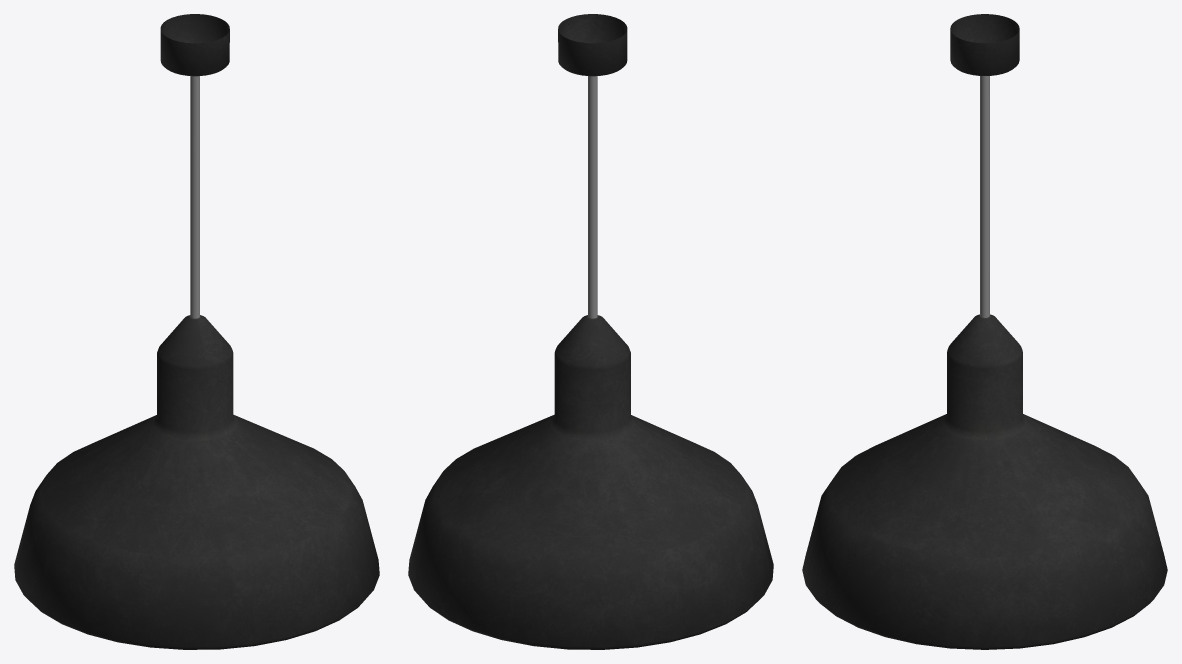
Rendered from hanging_lamp.glb.
The picture shows the model from 3 angles, left to right: view 1: azimuth 30°, elevation 25°; view 2: azimuth 150°, elevation 25°; view 3: azimuth 270°, elevation 25°; orthographic projection.
Parts seen in each view (by area): view 1: TF2_FS_Lamp; view 2: TF2_FS_Lamp; view 3: TF2_FS_Lamp.
Boxes of the visible parts, x1,y1,x2,y2 form: TF2_FS_Lamp: [14, 14, 379, 649]; TF2_FS_Lamp: [408, 14, 773, 649]; TF2_FS_Lamp: [802, 14, 1167, 649].
Bounding box in the file's own units: 54.19 × 89.12 × 54.19.
1 material, 1 textured.
